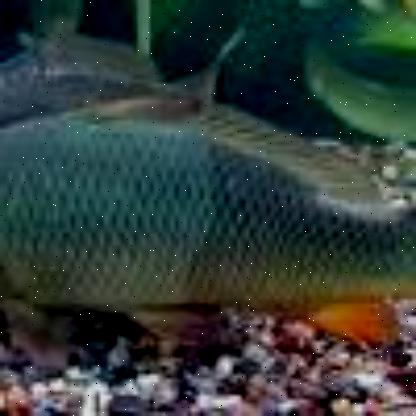ikan-mas: (0, 100, 416, 324)
